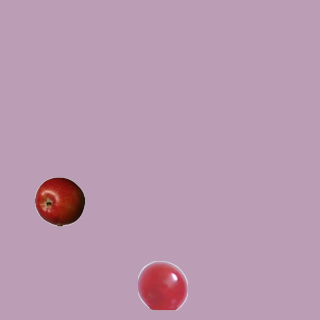Apple Braeburn: (34, 176, 84, 226)
Redcurrant: (137, 260, 187, 310)
